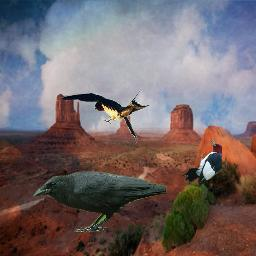Crow: (33, 171, 167, 233)
Swallow: (59, 88, 166, 144)
Woodpecker: (182, 140, 222, 186)
